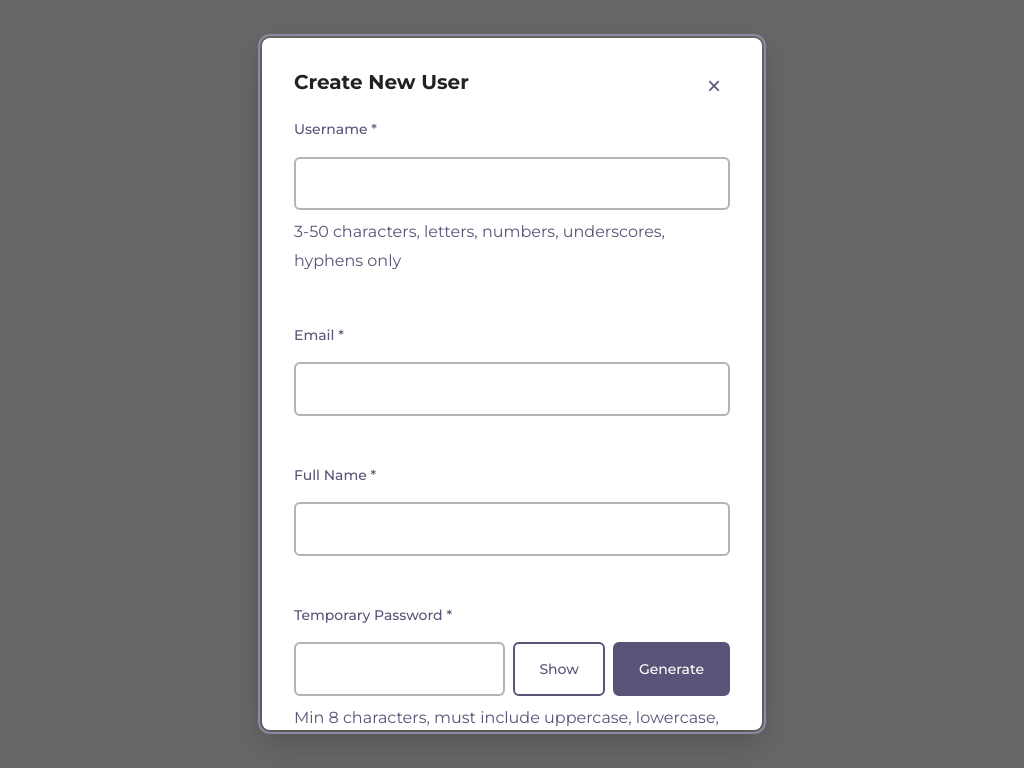
Test: CreateUserDialog › Form Validation › validates password contains uppercase letter
Type "testuser" into the field labelled "Username *" at (512, 184), box [294, 157, 730, 210]
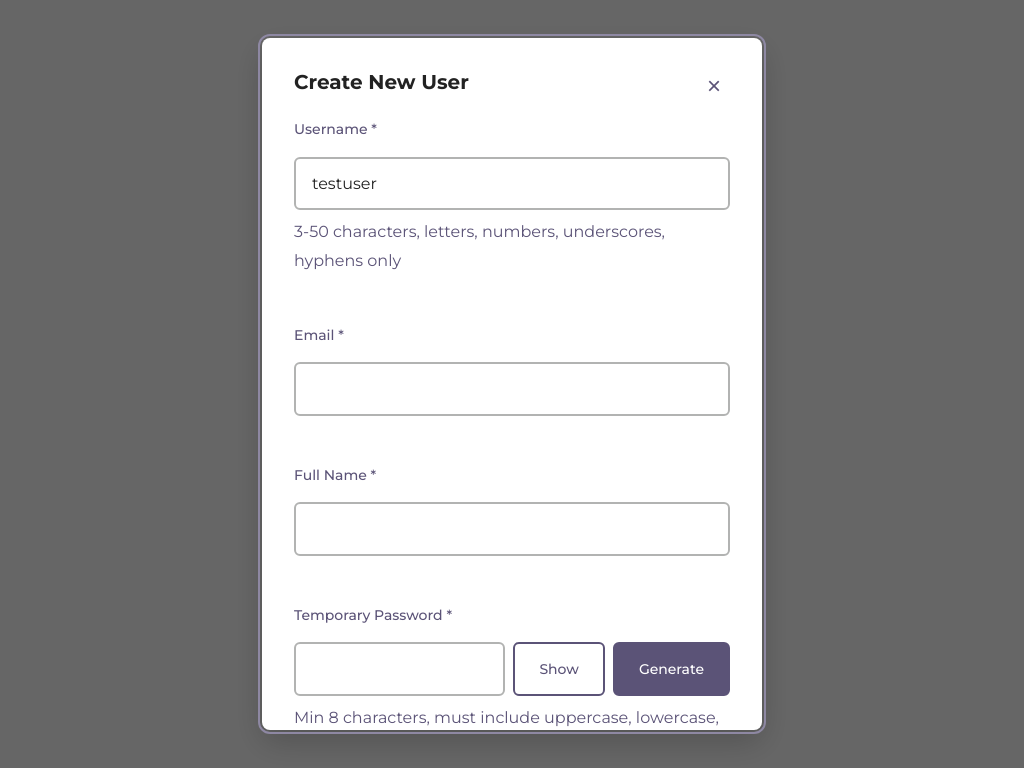
Type "test@example.com" into the field labelled "Email *" at (512, 389), box [294, 362, 730, 416]
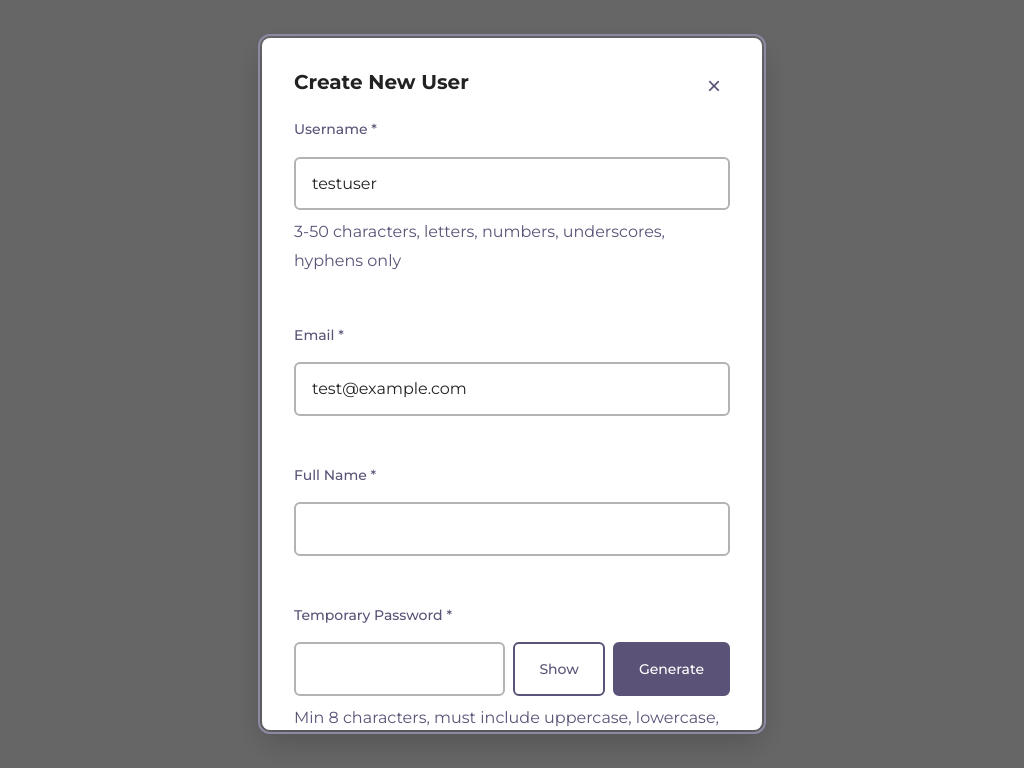
Type "Test User" into the field labelled "Full Name *" at (512, 529), box [294, 502, 730, 556]
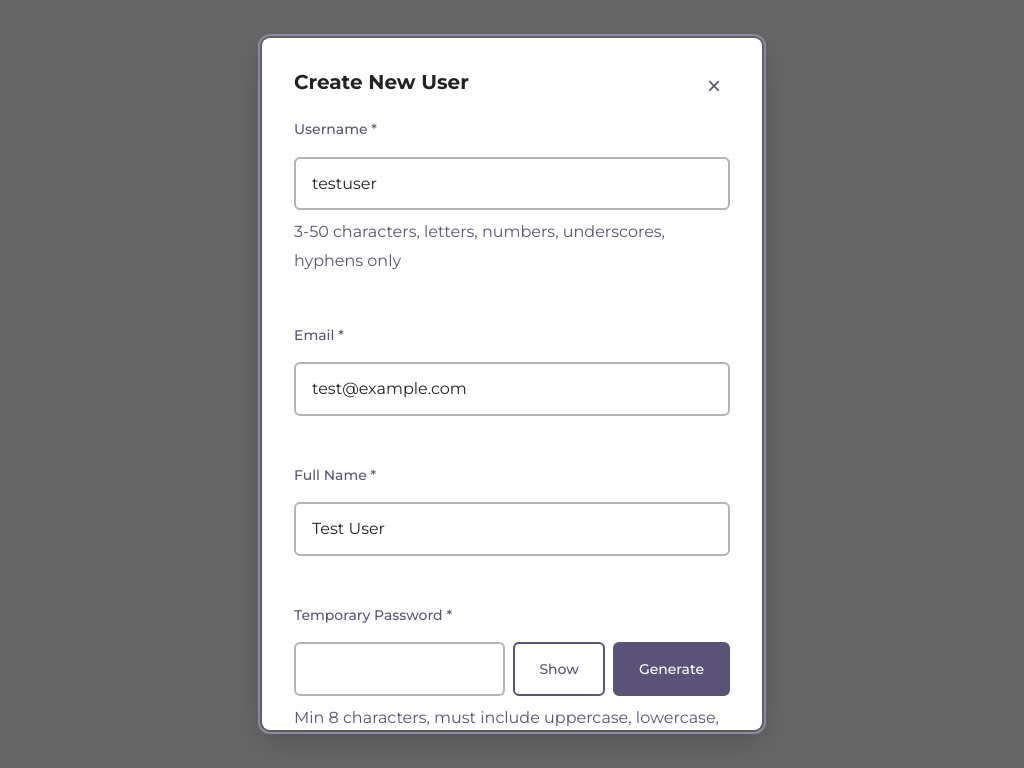
Type "lowercase123" into the password field labelled "Temporary Password *" at (400, 669), box [294, 642, 505, 696]
(page scrolled)
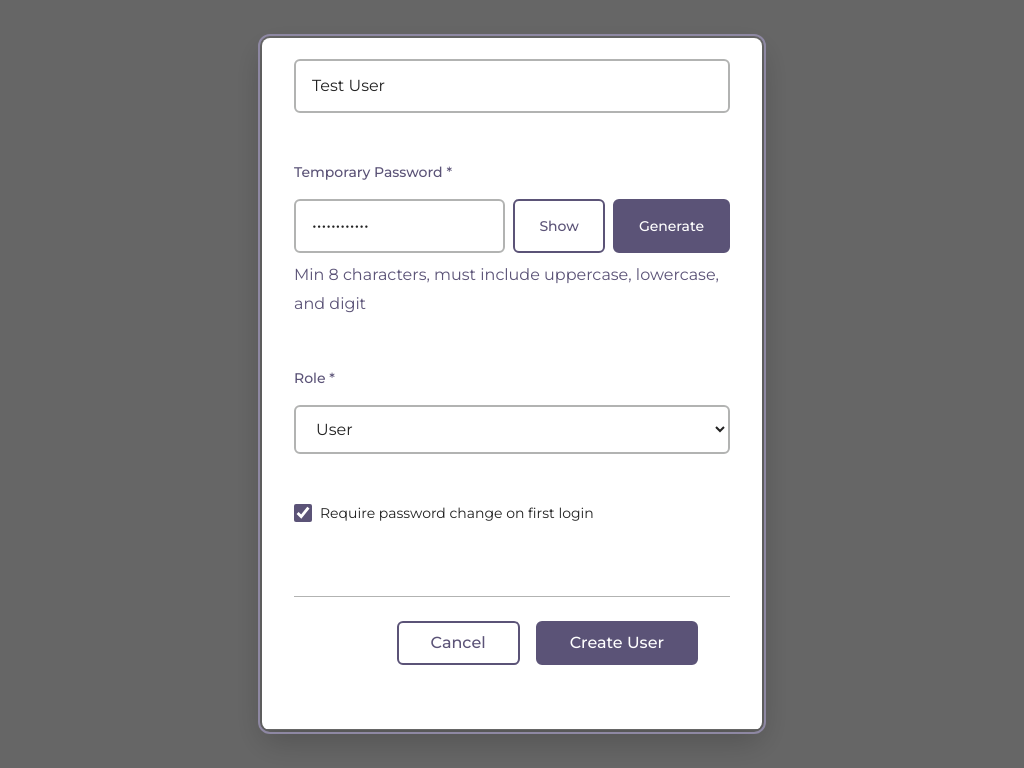
Click the button "Create User" at (617, 643), box [536, 621, 698, 665]
(page scrolled)
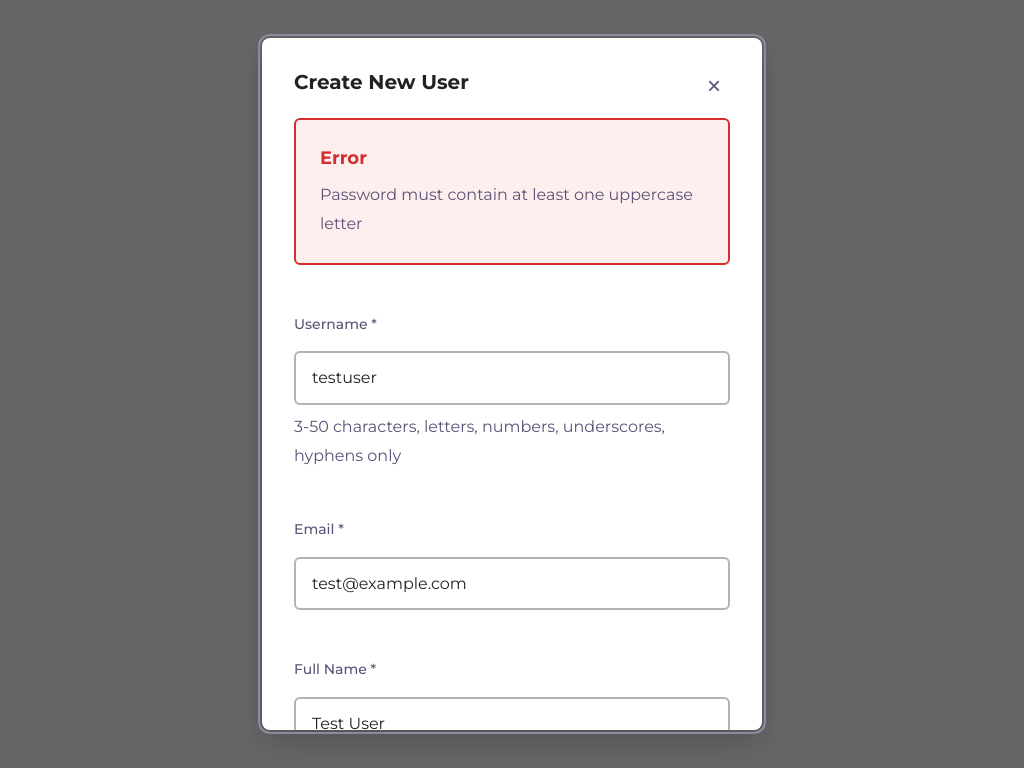
Result: the text "Password must contain at least one uppercase letter" is shown at [320, 181, 704, 239]
